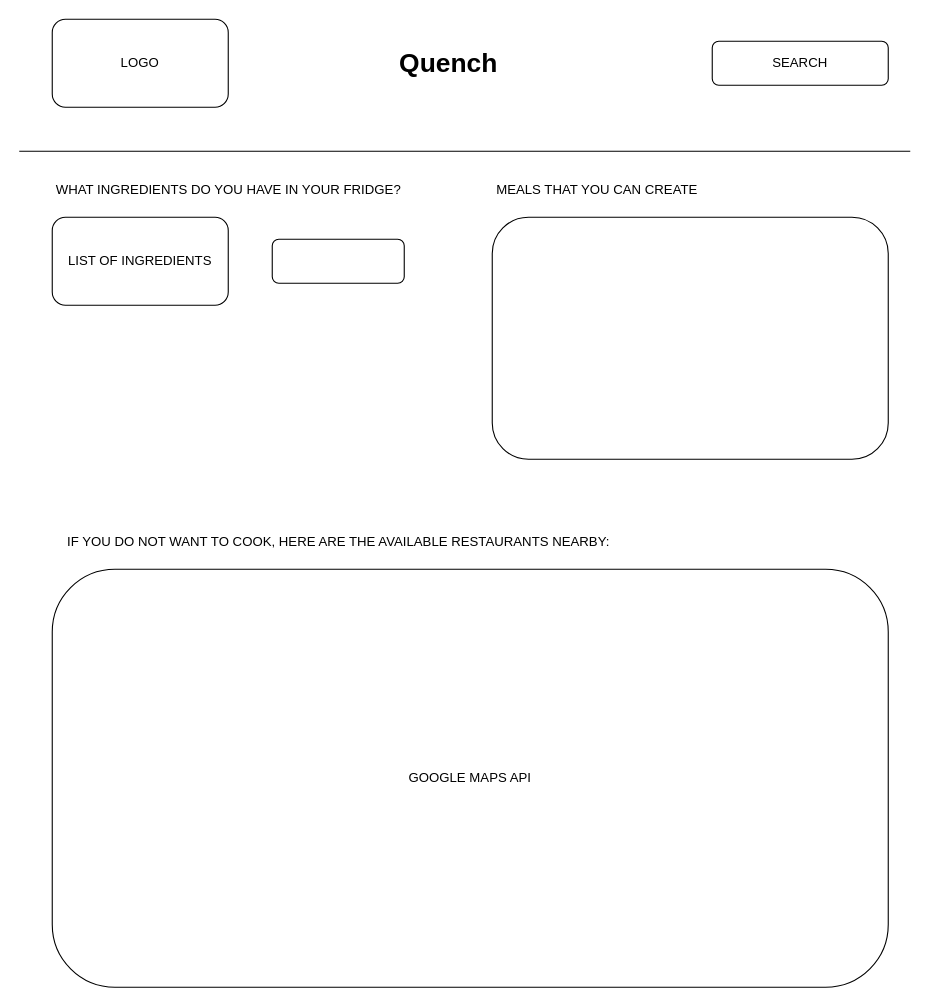
This 931x1007 diagram has some shape labels left out. Here are the shapes that lost their labels. From the top down, the centre of each, then its label:
pixel 337 260: BUTTON
pixel 689 337: LIST OF MEALS FETCHED BY API
